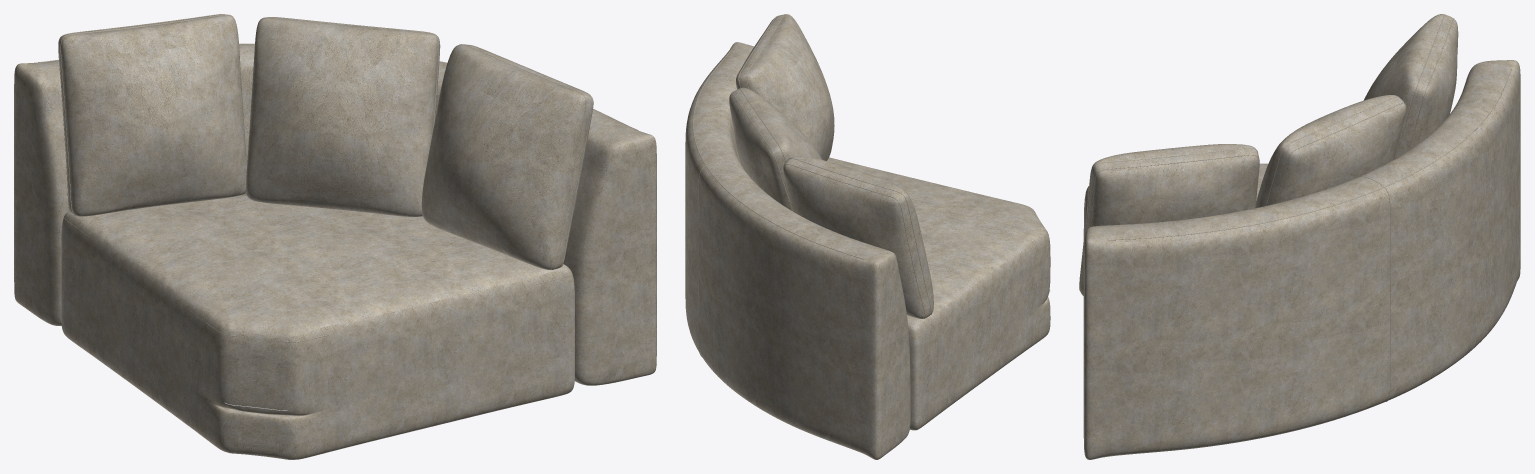
File: corner.glb
3 views of the same model, side by side, from view 1: azimuth 30°, elevation 25°; view 2: azimuth 150°, elevation 25°; view 3: azimuth 270°, elevation 25° (orthographic). The views are drawn at different scales.
Parts seen in each view (by area): view 1: root; view 2: root; view 3: root.
Boxes of the visible parts, <box> form: root: <box>14,14,656,459</box>; root: <box>685,14,1050,459</box>; root: <box>1079,14,1520,459</box>.
Size of the model in its own units: 1.13 by 0.7719 by 1.14.
Materials: 2 (1 with a texture image).
